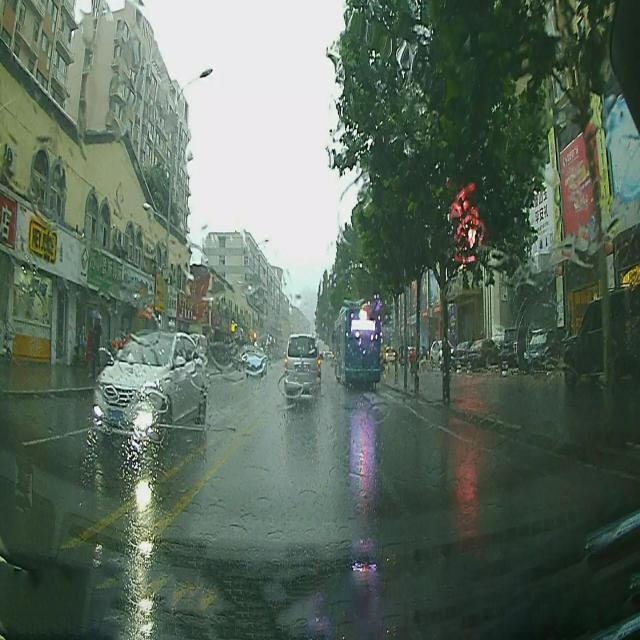car: (88, 329, 208, 444), (562, 292, 640, 385), (284, 334, 321, 400), (244, 346, 266, 379)
